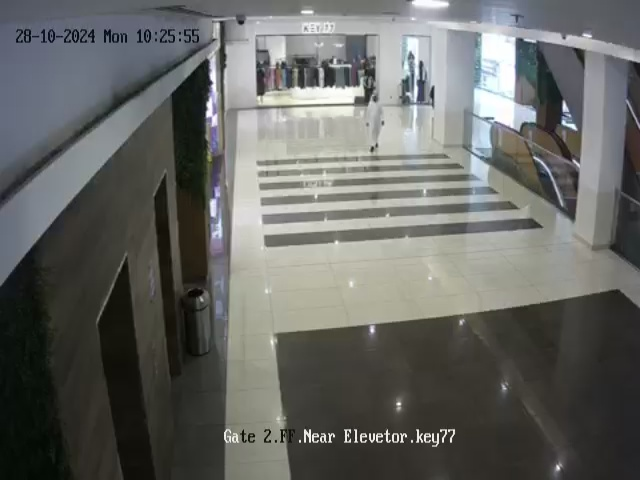male: (365, 93, 385, 153)
other: (253, 54, 274, 117), (416, 60, 427, 104)
